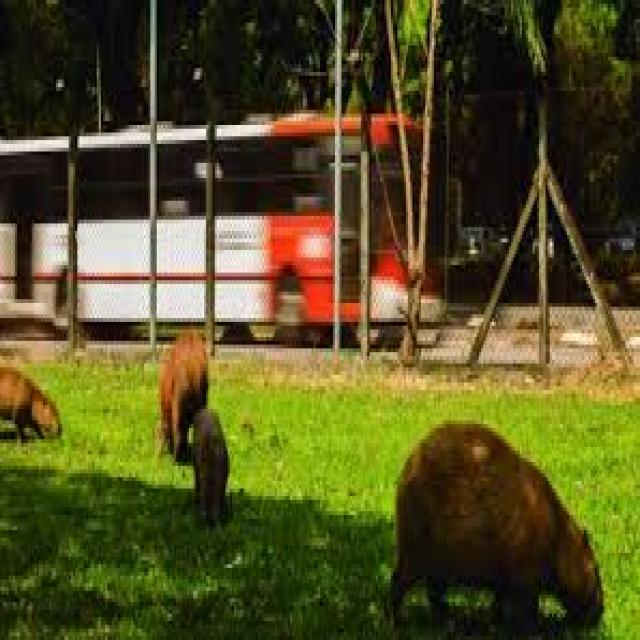capy: (386, 420, 606, 639), (154, 326, 207, 461), (0, 360, 59, 447), (194, 409, 230, 530)
